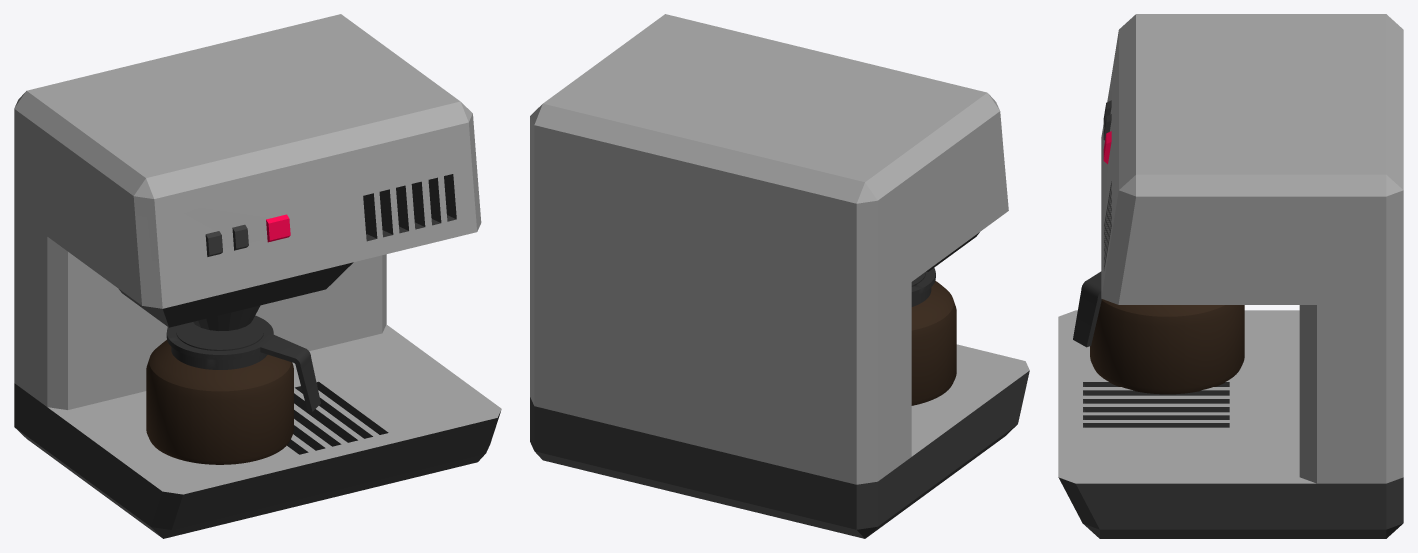
The model's file is SM_CoffeeMachine.fbx.
The picture shows the model from 3 angles, left to right: view 1: azimuth 30°, elevation 25°; view 2: azimuth 150°, elevation 25°; view 3: azimuth 270°, elevation 25°; orthographic projection. The views are drawn at different scales.
Visible parts, largest first — view 1: CoffeeMachine, CoffeePot_01; view 2: CoffeeMachine, CoffeePot_01; view 3: CoffeeMachine, CoffeePot_01.
Part boxes in pixels (x1=…): CoffeeMachine: x1=14, y1=14, x2=501, y2=538; CoffeePot_01: x1=146, y1=315, x2=320, y2=464; CoffeeMachine: x1=530, y1=14, x2=1029, y2=538; CoffeePot_01: x1=911, y1=268, x2=956, y2=405; CoffeeMachine: x1=1058, y1=14, x2=1403, y2=538; CoffeePot_01: x1=1073, y1=271, x2=1244, y2=394.
Size of the model in its own units: 40.29 by 39.51 by 33.92.
